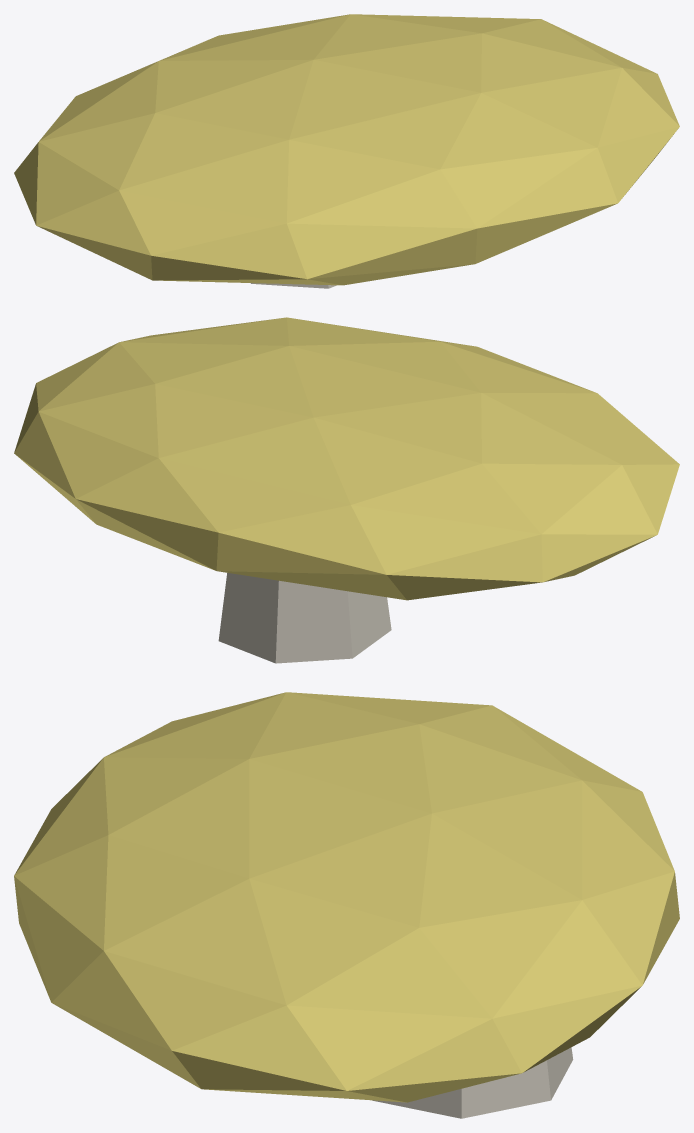
File: hymenochaete-microcycla.glb
3 renders of one model, top to bottom at view 1: azimuth 30°, elevation 25°; view 2: azimuth 150°, elevation 25°; view 3: azimuth 270°, elevation 25°, orthographic. The views are drawn at different scales.
Visible parts, largest first — view 1: shelf; view 2: shelf, stalk; view 3: shelf, stalk.
Part boxes in pixels (x1=…): shelf: x1=14, y1=14, x2=679, y2=285; shelf: x1=14, y1=317, x2=679, y2=600; stalk: x1=218, y1=573, x2=391, y2=663; shelf: x1=14, y1=692, x2=679, y2=1102; stalk: x1=372, y1=1047, x2=573, y2=1118.
Size of the model in its own units: 0.48 by 0.1484 by 0.3488.
